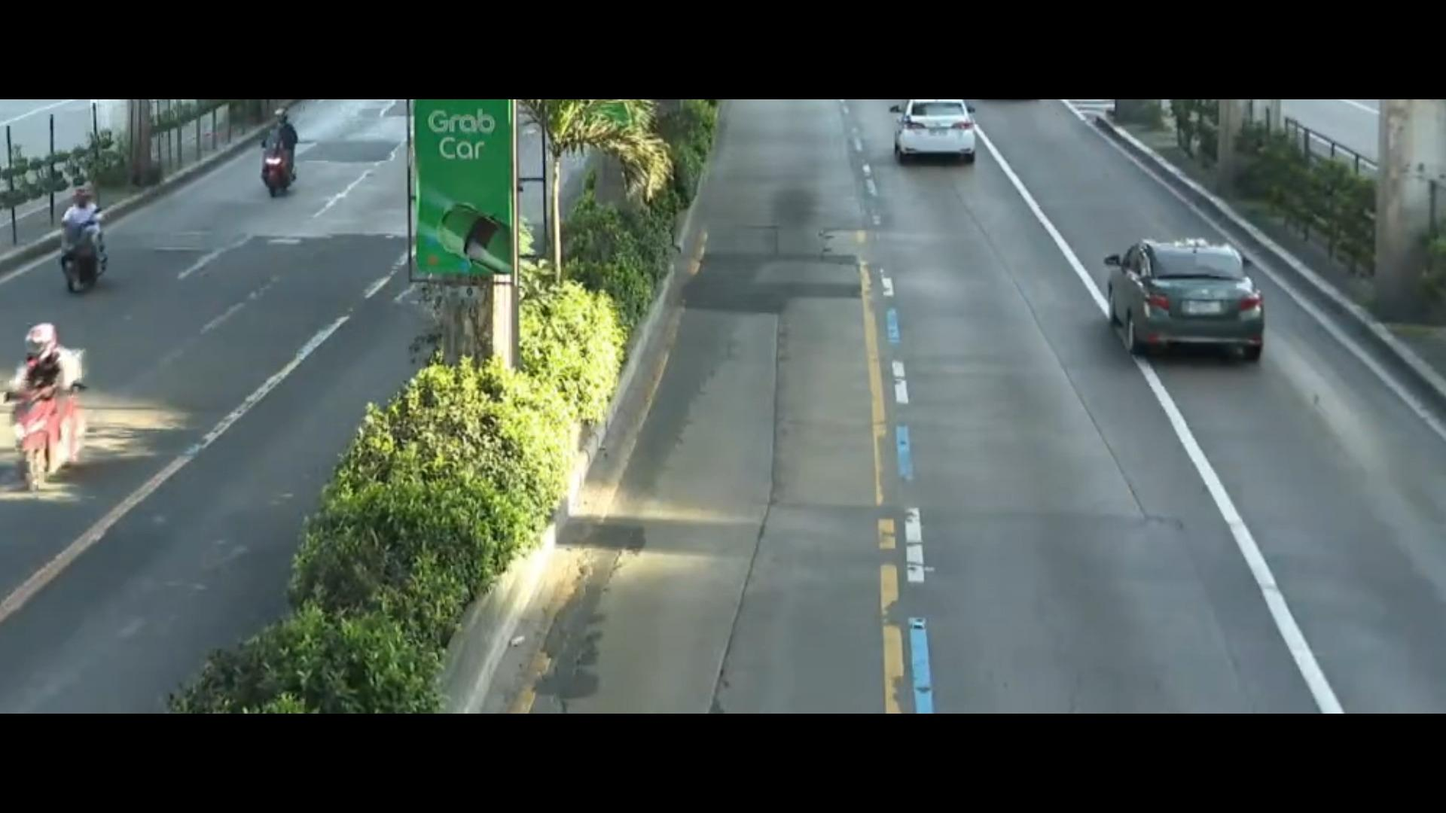Motorcycle: (0, 304, 116, 525), (35, 191, 129, 320), (244, 108, 327, 212)
Sedan: (1050, 216, 1294, 386), (875, 93, 1002, 179)
